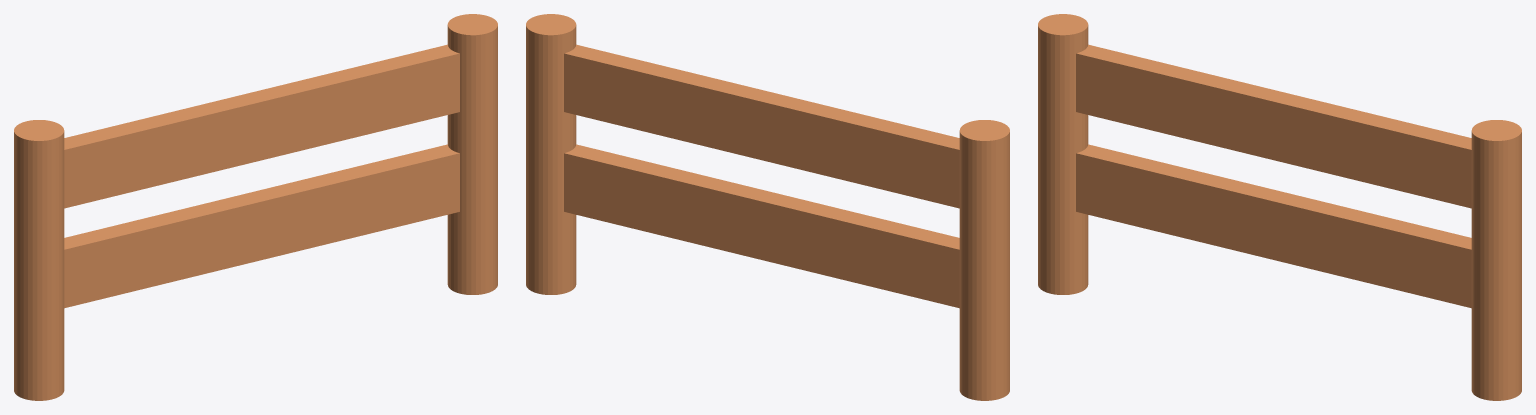
File: Fence.fbx
3 views of the same model, side by side, from view 1: azimuth 30°, elevation 25°; view 2: azimuth 150°, elevation 25°; view 3: azimuth 330°, elevation 25° (orthographic).
Visible parts, largest first — view 1: Cube, Cube.001, Cylinder.001, Cylinder; view 2: Cube, Cube.001, Cylinder.001, Cylinder; view 3: Cube, Cube.001, Cylinder, Cylinder.001.
Part boxes in pixels (box(x1,y1,x2,y2)): Cube: box(64, 44, 459, 208); Cube.001: box(64, 144, 459, 308); Cylinder.001: box(14, 120, 64, 400); Cylinder: box(447, 14, 497, 294); Cube: box(564, 44, 959, 208); Cube.001: box(564, 144, 959, 308); Cylinder.001: box(959, 120, 1009, 400); Cylinder: box(526, 14, 576, 294); Cube: box(1076, 44, 1471, 208); Cube.001: box(1076, 144, 1471, 308); Cylinder: box(1471, 120, 1521, 400); Cylinder.001: box(1038, 14, 1088, 294).
Bounding box in the file's own units: 219 × 20 × 114.
